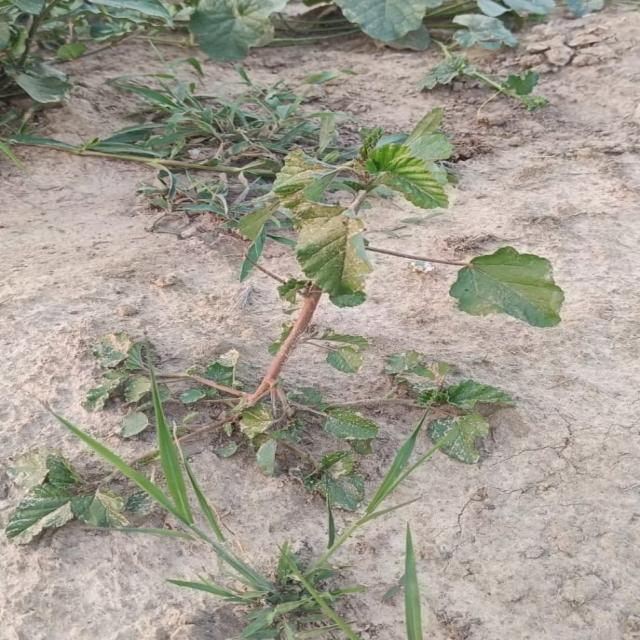weed: (7, 101, 455, 475), (450, 247, 565, 327), (84, 334, 145, 409)
